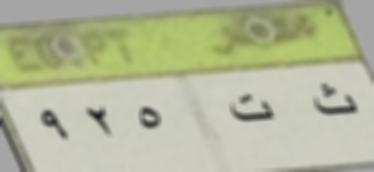2: (82, 103, 117, 144)
5: (133, 99, 168, 138)
9: (30, 106, 70, 144)
taa: (227, 88, 276, 131)
thaa: (310, 78, 360, 122)
